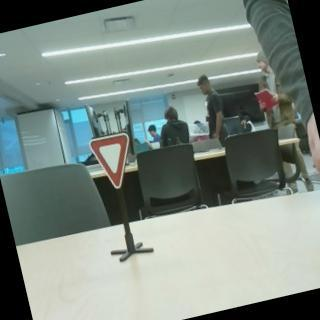sign_yield: (89, 131, 142, 194)
